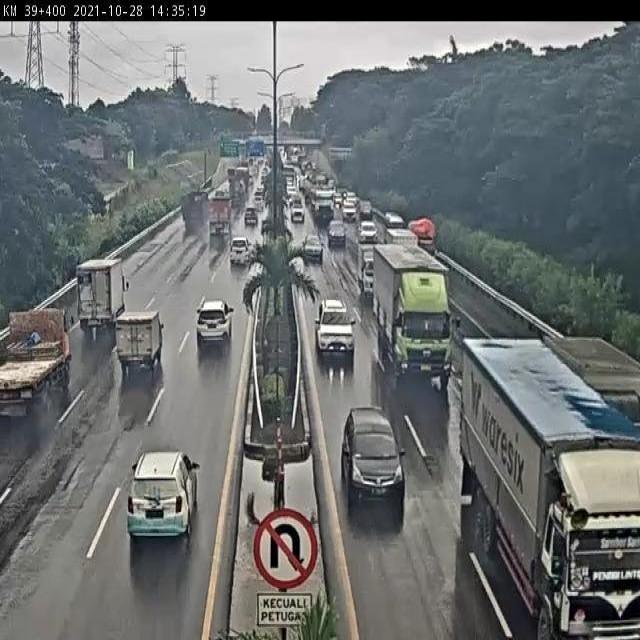big truck: (453, 324, 640, 640), (369, 241, 450, 388), (171, 188, 207, 245), (209, 192, 233, 249)
car: (104, 436, 214, 553), (331, 407, 409, 513), (107, 301, 173, 395), (182, 293, 244, 359), (317, 289, 359, 367), (353, 245, 383, 298), (223, 241, 253, 279), (298, 222, 325, 258), (322, 211, 348, 245)
small truck: (536, 304, 640, 415), (1, 316, 74, 457), (60, 250, 130, 338)
